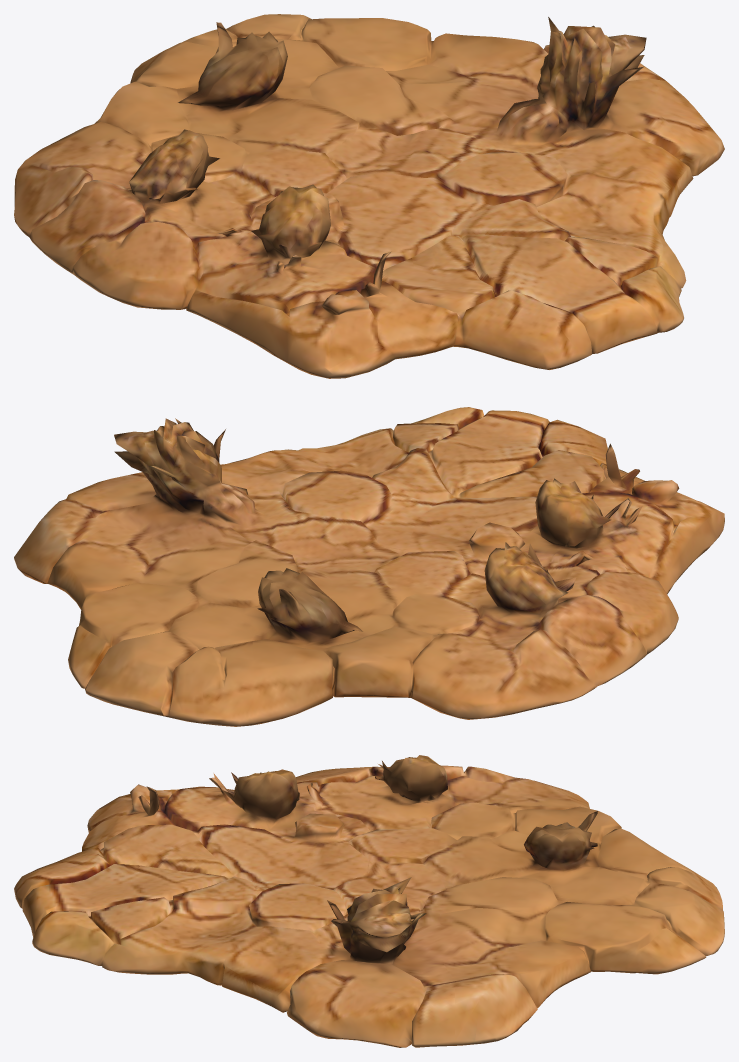
File: Piso_2.glb
3 views of the same model, one above another, from view 1: azimuth 30°, elevation 25°; view 2: azimuth 150°, elevation 25°; view 3: azimuth 270°, elevation 25° (orthographic). The views are drawn at different scales.
Visible parts, largest first — view 1: Piso 2; view 2: Piso 2; view 3: Piso 2.
Boxes of the visible parts, bbox=[...] form: Piso 2: bbox=[14, 14, 724, 378]; Piso 2: bbox=[14, 407, 724, 726]; Piso 2: bbox=[14, 755, 724, 1047].
Size of the model in its own units: 0.2286 by 0.0477 by 0.2602.
Materials: 1 (1 with a texture image).
